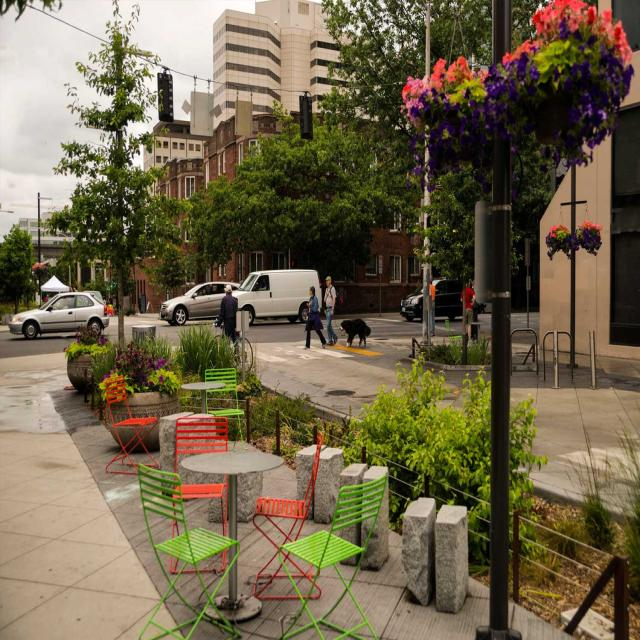body: (213, 283, 240, 363), (302, 284, 328, 350), (460, 275, 476, 346), (324, 275, 338, 346), (39, 287, 71, 312), (470, 274, 479, 342), (428, 274, 436, 337), (103, 293, 120, 315), (256, 276, 270, 295), (435, 278, 447, 295), (198, 285, 210, 300)
